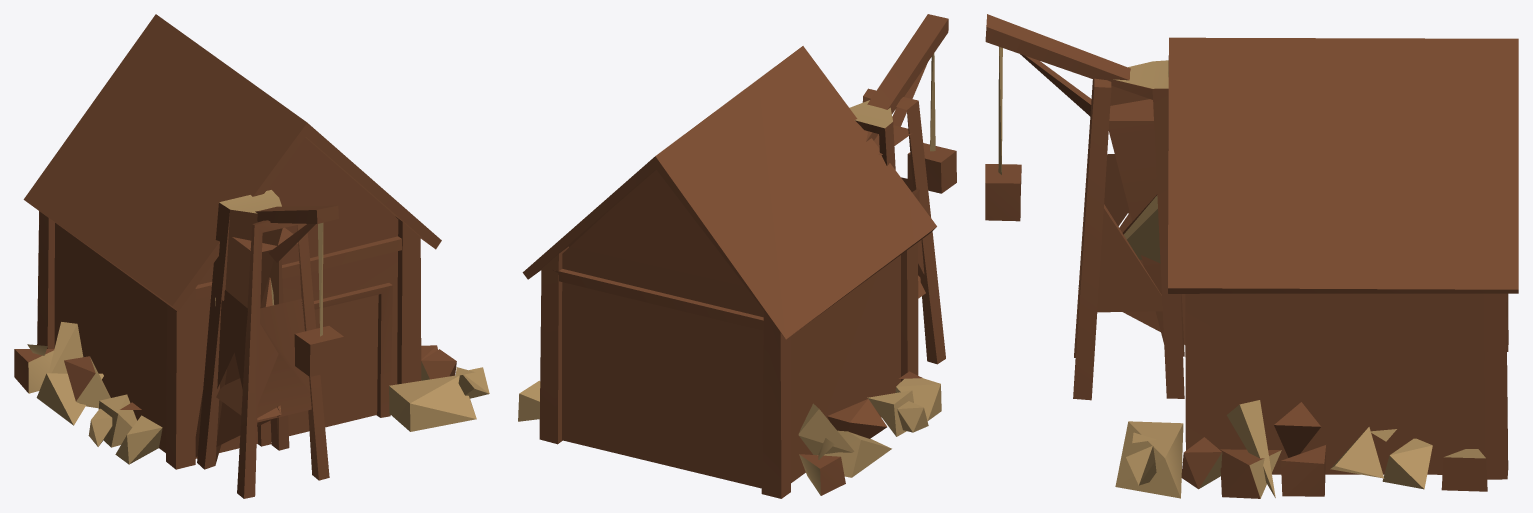
The model's file is supply33.3.glb.
The picture shows the model from 3 angles, left to right: view 1: azimuth 30°, elevation 25°; view 2: azimuth 150°, elevation 25°; view 3: azimuth 270°, elevation 25°; orthographic projection. The views are drawn at different scales.
Visible parts, largest first — view 1: supply33; view 2: supply33; view 3: supply33.
Boxes of the visible parts, x1=… form: supply33: x1=14, y1=14, x2=489, y2=498; supply33: x1=518, y1=14, x2=956, y2=498; supply33: x1=985, y1=14, x2=1518, y2=498.
Bounding box in the file's own units: 2.47 × 2.25 × 2.9.
